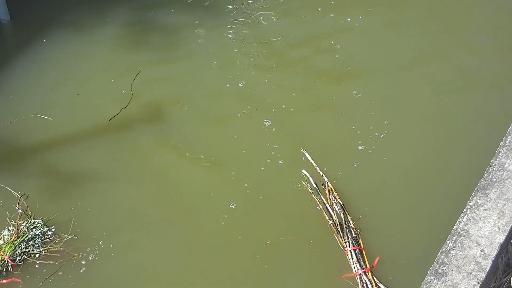twig: (304, 144, 395, 288), (0, 182, 64, 288), (90, 58, 156, 126)
